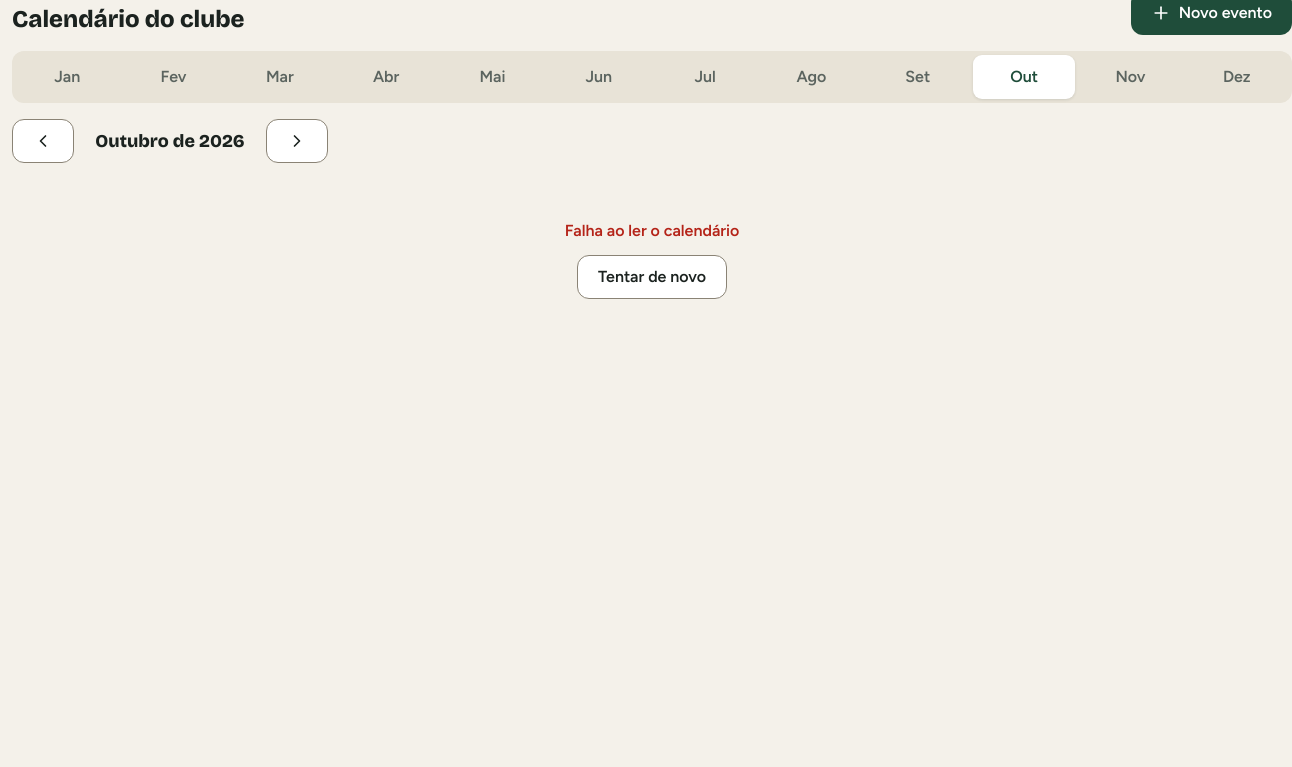
Test: A6 · quatro estados › erro: mostra a mensagem e repete a busca
Expected: the text "Falha ao ler o calendário" is shown, [565, 219, 739, 243]
What coordinates should you click on to do the following:
click the button "Tentar de novo"
I would click on:
 (652, 277)
Its box is [577, 255, 727, 299].
(page scrolled)
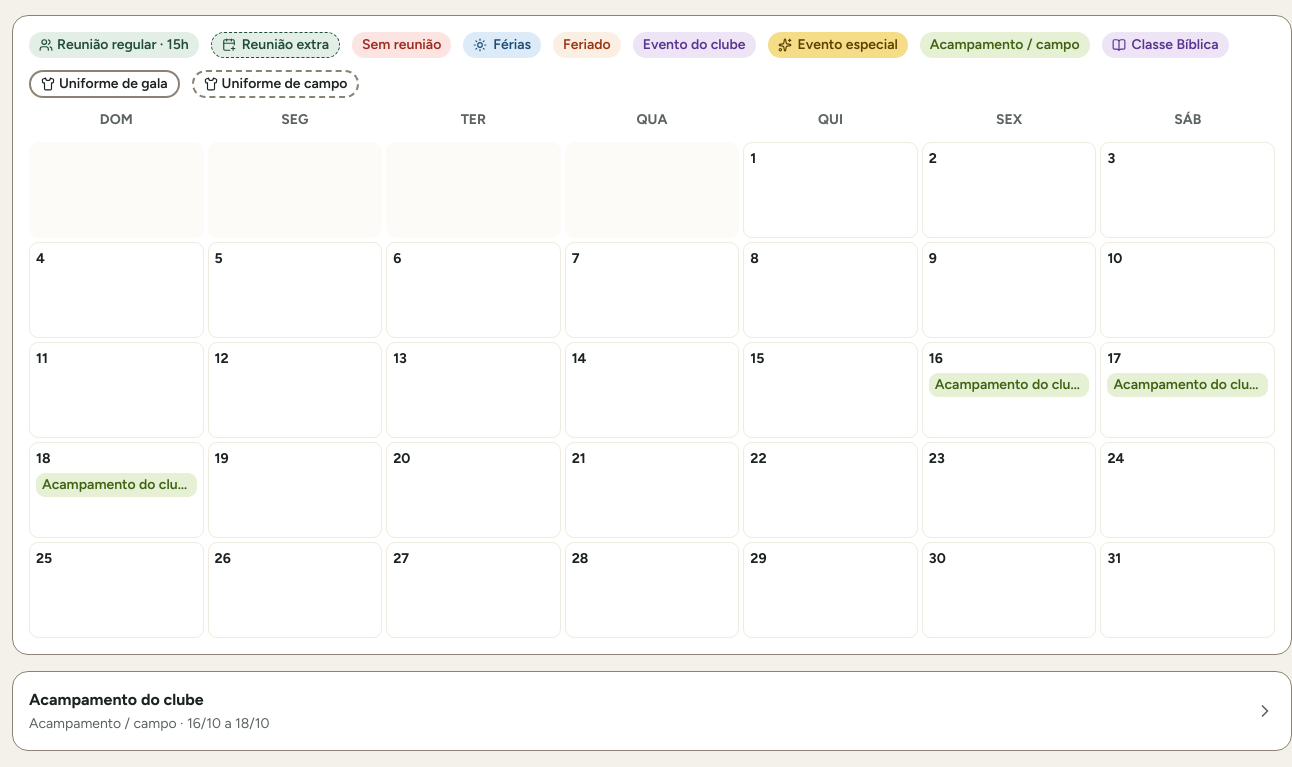
Expected: the list named "Eventos de Outubro" is shown, [12, 671, 1291, 751]
